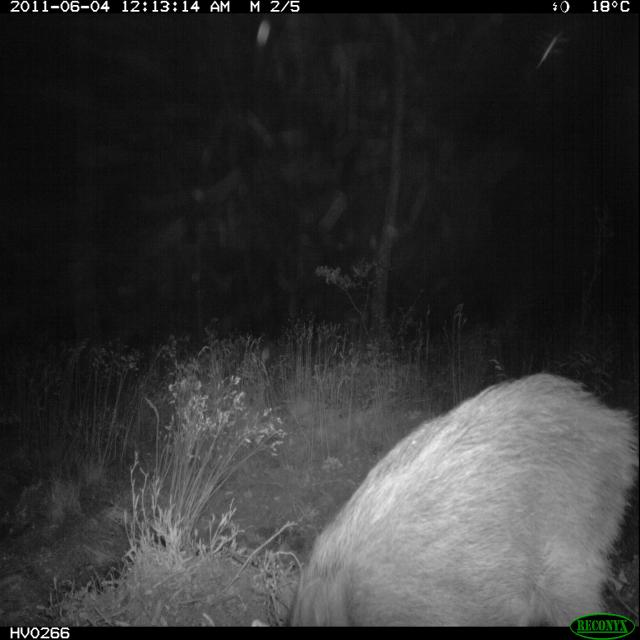boar: (274, 343, 636, 631)
